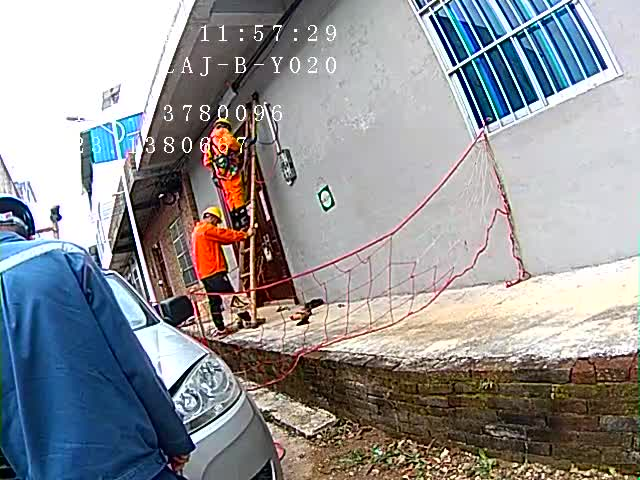downcloth: (199, 277, 250, 324)
halt: (1, 197, 36, 241), (202, 206, 224, 229), (211, 116, 234, 132)
hand: (246, 227, 254, 236)
person: (1, 192, 197, 480), (187, 204, 242, 333), (200, 109, 249, 218)
safebelt: (204, 129, 253, 189)
shoe: (232, 211, 251, 229)
support: (189, 206, 255, 334)
upsuit: (1, 240, 168, 477)
worksign: (316, 185, 337, 212)
ydownsuit: (211, 167, 242, 206)
yupsuit: (189, 220, 240, 275), (200, 127, 239, 162)
